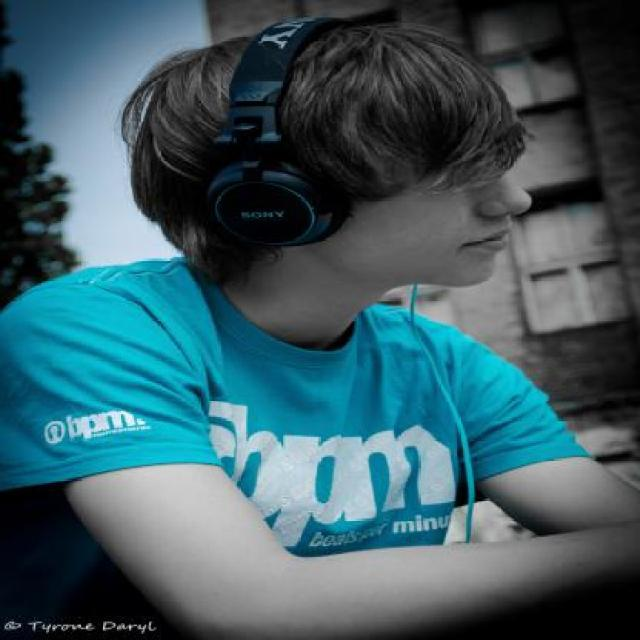earphone: (219, 0, 348, 258)
